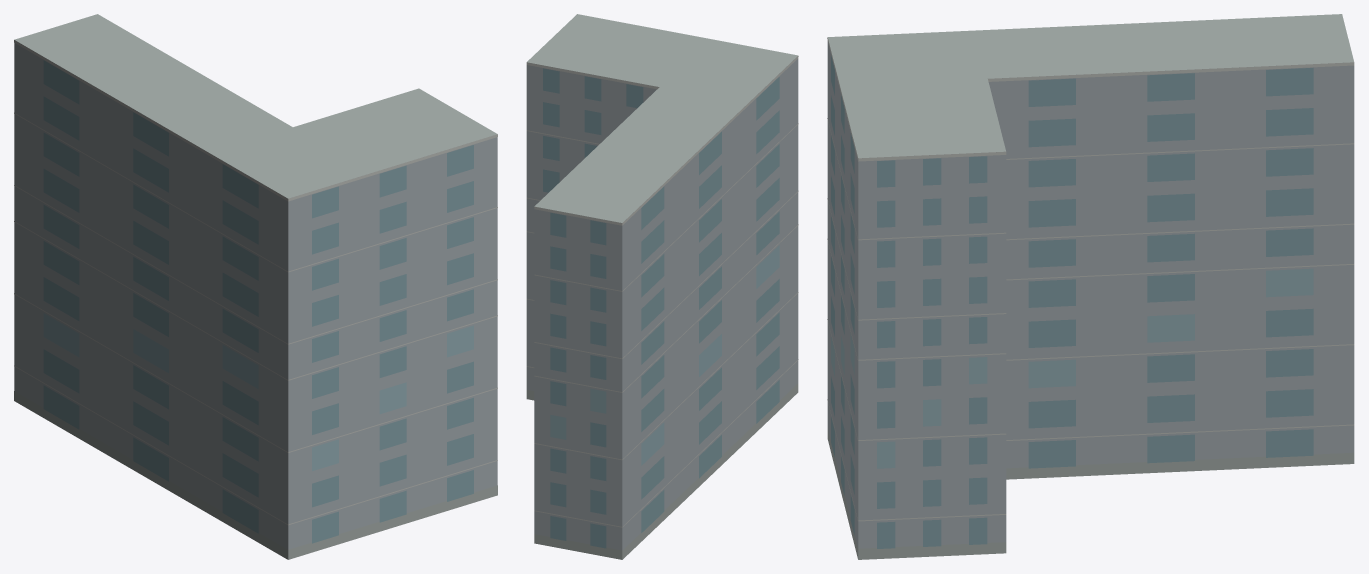
Rendered from residential-10abbd4b-0c4a-46bb-8e39-551b2dabd1ba.glb.
The picture shows the model from 3 angles, left to right: view 1: azimuth 30°, elevation 25°; view 2: azimuth 150°, elevation 25°; view 3: azimuth 270°, elevation 25°; orthographic projection. The views are drawn at different scales.
Visible parts, largest first — view 1: residential-10abbd4b-0c4a-46bb-8e39-551b2dabd1ba.tmp; view 2: residential-10abbd4b-0c4a-46bb-8e39-551b2dabd1ba.tmp; view 3: residential-10abbd4b-0c4a-46bb-8e39-551b2dabd1ba.tmp.
Part boxes in pixels (box(x1,y1,x2,y2)): residential-10abbd4b-0c4a-46bb-8e39-551b2dabd1ba.tmp: box(14, 14, 497, 559); residential-10abbd4b-0c4a-46bb-8e39-551b2dabd1ba.tmp: box(526, 14, 798, 559); residential-10abbd4b-0c4a-46bb-8e39-551b2dabd1ba.tmp: box(827, 14, 1354, 559).
Bounding box in the file's own units: 23.53 × 30.5 × 36.27.
